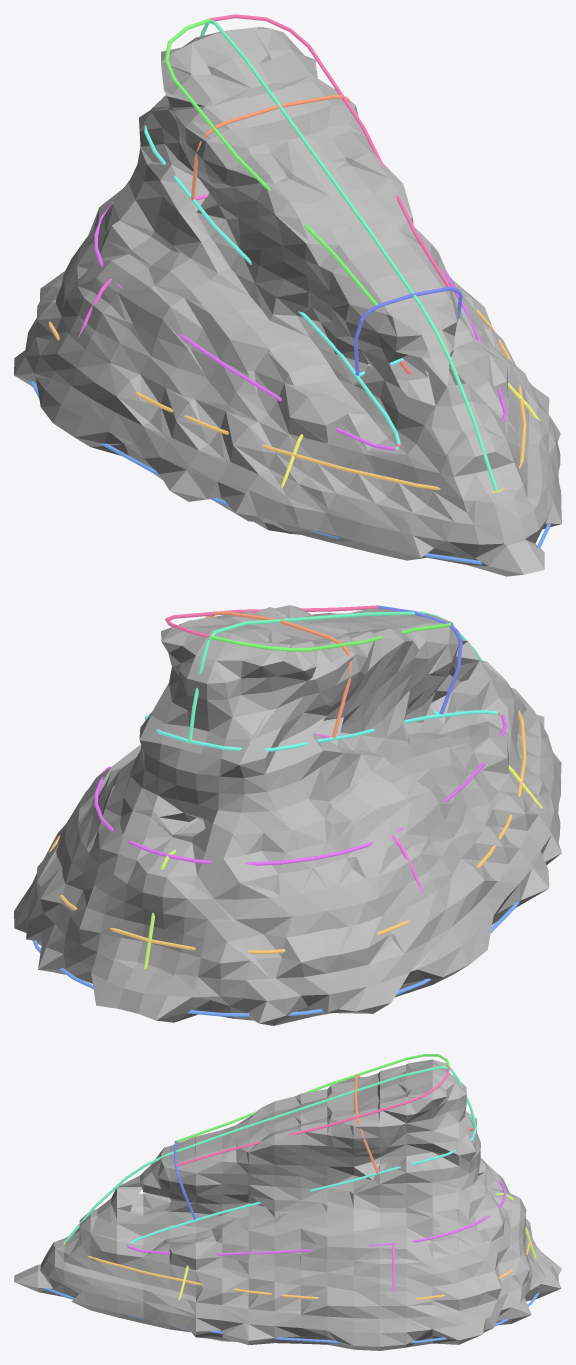
Rendered from t2f_iron.gltf.
The picture shows the model from 3 angles, top to bottom: view 1: azimuth 30°, elevation 25°; view 2: azimuth 150°, elevation 25°; view 3: azimuth 270°, elevation 25°; orthographic projection. The views are drawn at different scales.
Size of the model in its own units: 0.5068 by 0.4318 by 0.8616.
